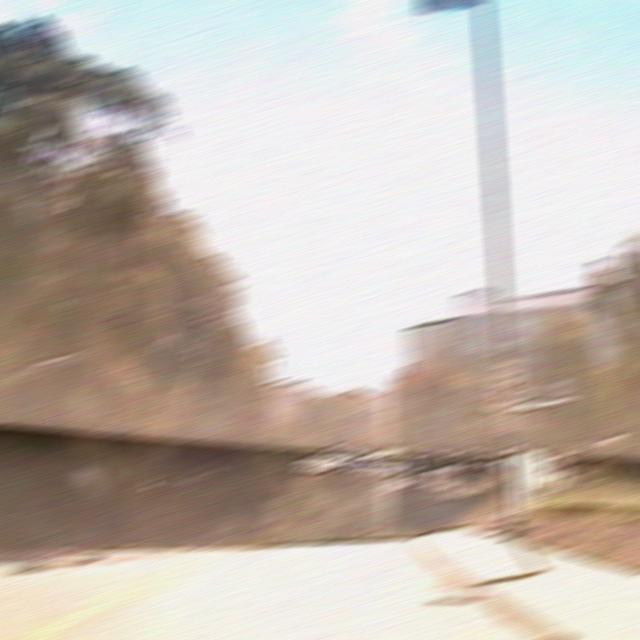speedLimit35: (488, 361, 523, 407)
